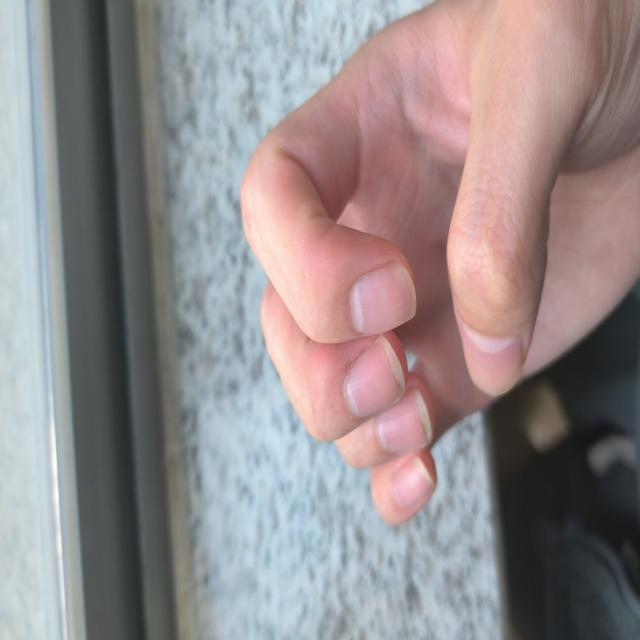Nail: (343, 336, 406, 422), (459, 315, 524, 396), (351, 261, 417, 337), (376, 389, 432, 454), (392, 456, 434, 509)
